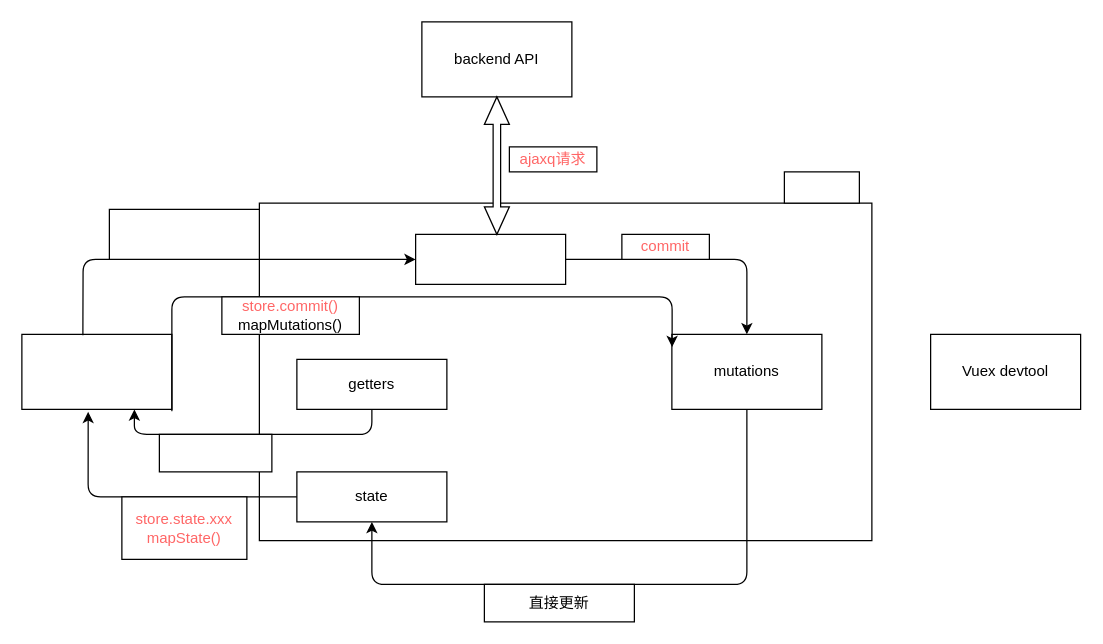
Some shapes in this 1103 by 644 pixel diagram are drawn without their labels. Each missing label, with the centre of its shape:
actions: point (490, 258)
store,dispatch() mapActions(): point (183, 233)
store.getters.yyy mapGetters（）: point (215, 452)
Vue components: point (96, 371)
vuex/store: point (821, 187)
